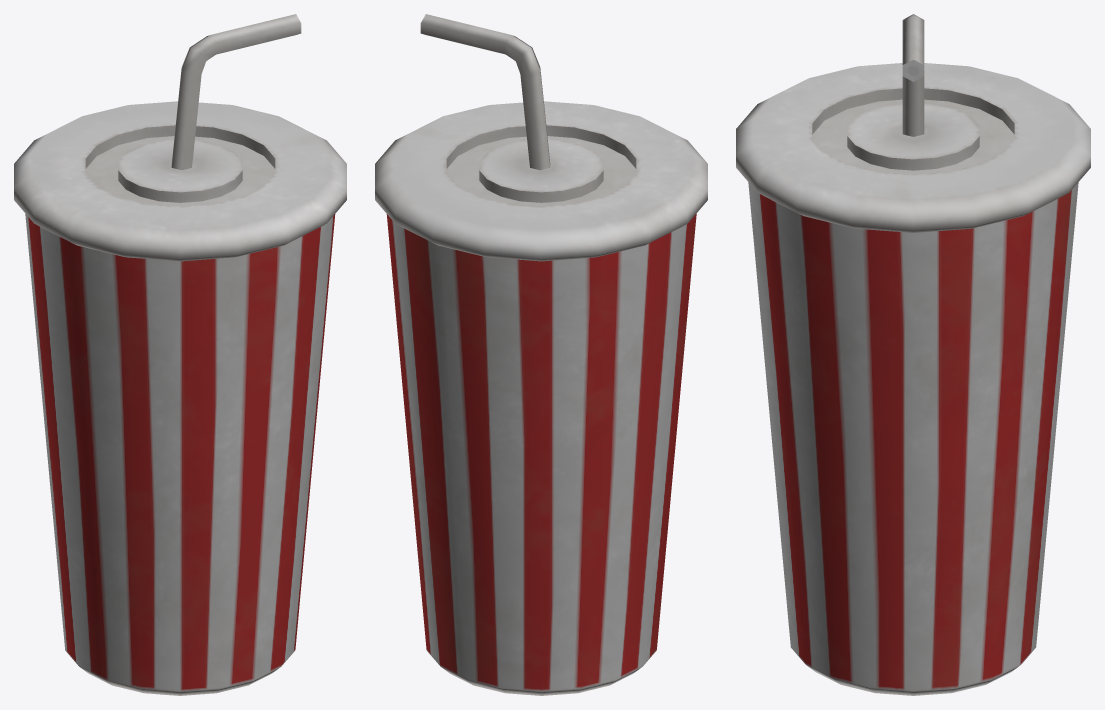
Rendered from PaperCup_Lid.FBX.
3 views of the same model, side by side, from view 1: azimuth 30°, elevation 25°; view 2: azimuth 150°, elevation 25°; view 3: azimuth 270°, elevation 25° (orthographic). The views are drawn at different scales.
Visible parts, largest first — view 1: PaperCup_Lid; view 2: PaperCup_Lid; view 3: PaperCup_Lid.
Boxes of the visible parts, left/top/right/bottom form: PaperCup_Lid: left=14, top=14, right=346, bottom=695; PaperCup_Lid: left=375, top=14, right=707, bottom=695; PaperCup_Lid: left=736, top=14, right=1090, bottom=695.
Size of the model in its own units: 8.71 by 17.32 by 8.58.
